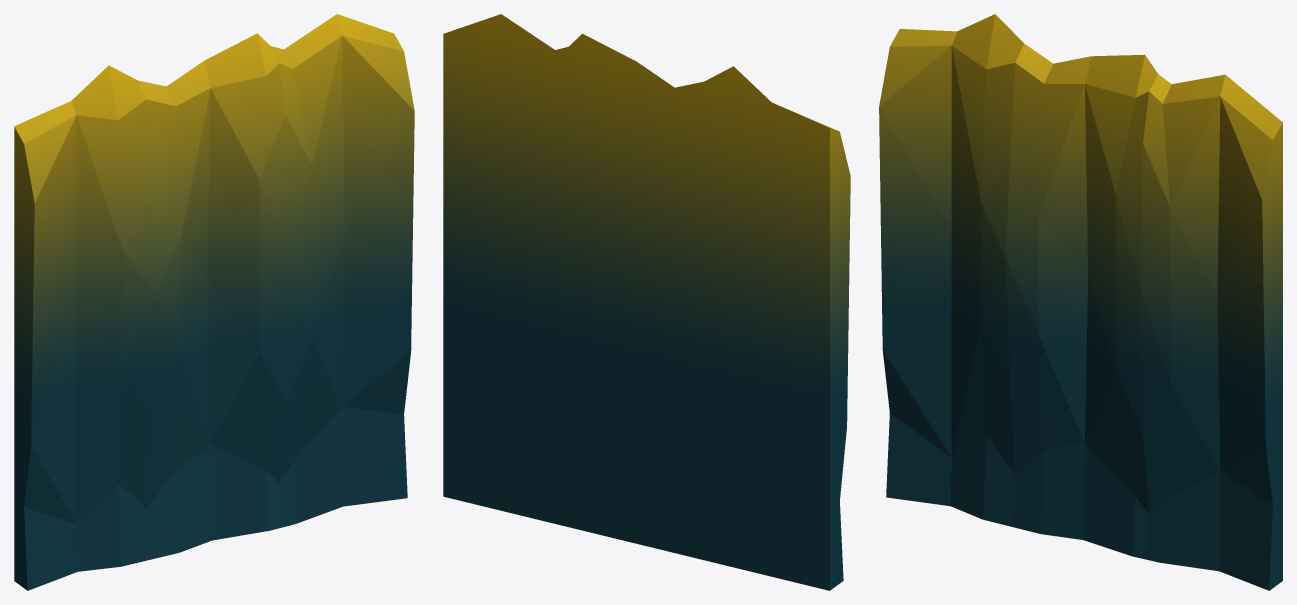
The model's file is Mod_Wall_High.fbx.
3 renders of one model, left to right at view 1: azimuth 30°, elevation 25°; view 2: azimuth 150°, elevation 25°; view 3: azimuth 330°, elevation 25°, orthographic.
Parts seen in each view (by area): view 1: Mod_Wall_High; view 2: Mod_Wall_High; view 3: Mod_Wall_High.
Part boxes in pixels (box(x1,y1,x2,y2)): Mod_Wall_High: box(14, 14, 414, 590); Mod_Wall_High: box(443, 14, 850, 590); Mod_Wall_High: box(879, 14, 1282, 590).
Bounding box in the file's own units: 16.23 × 20.11 × 1.52.
Materials: 1 (1 with a texture image).
